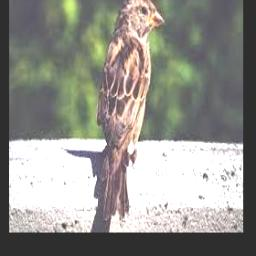Sparrow: (96, 0, 164, 221)
